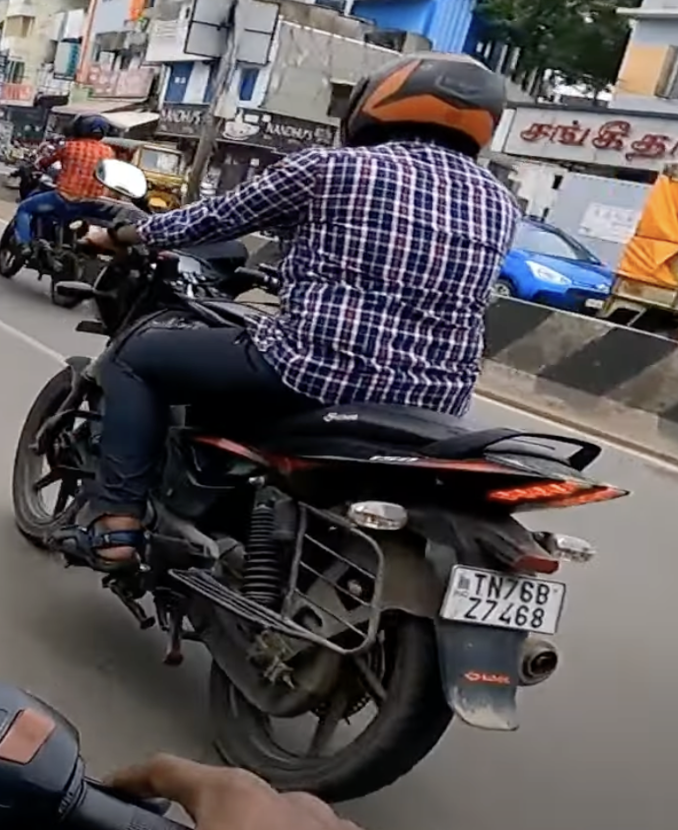motor: (40, 157, 607, 804)
number: (443, 563, 561, 632)
with helmet: (343, 44, 500, 152)
